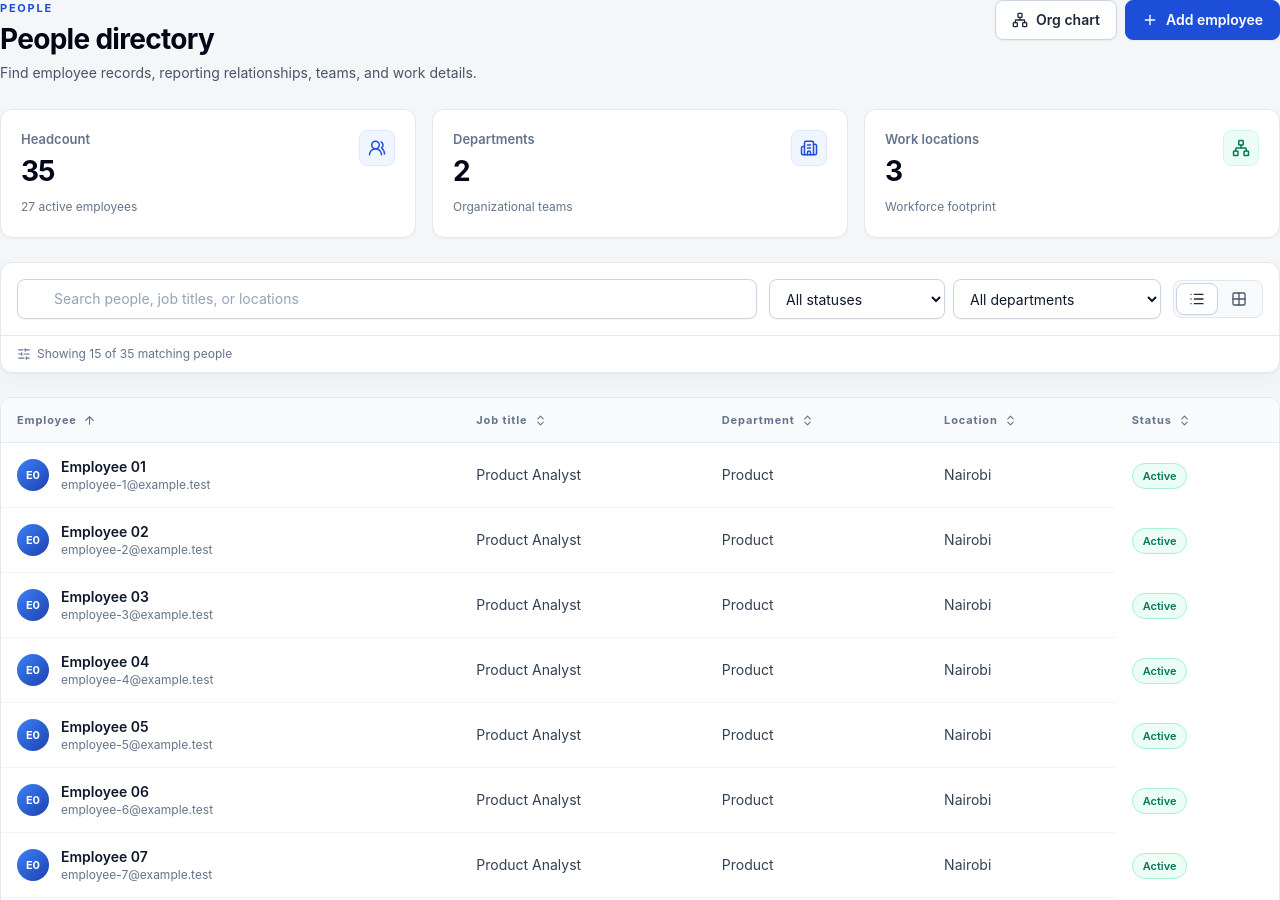
Test: keeps employee creation effective-date errors inside the create workflow
Expected: the text "Showing 15 of 35 matching people" is shown, [17,346,232,362]
Click the button "Add employee": (1202, 20) [1125,0,1279,40]
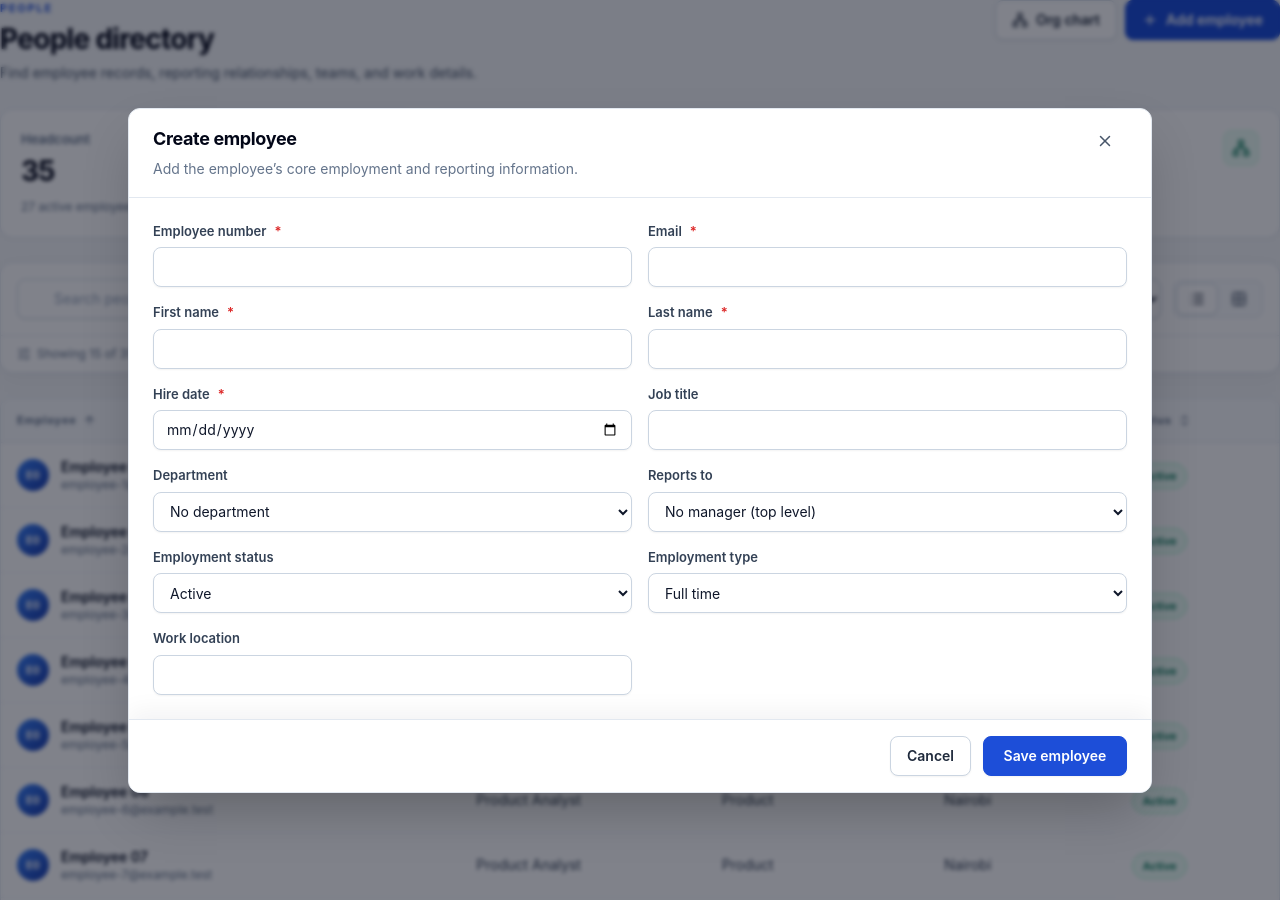
In the field labelled "Employee number": (392, 267) [153,247,632,287], type "EMP-901"
In the field labelled "Email": (888, 267) [648,247,1127,287], type "validation@example.test"
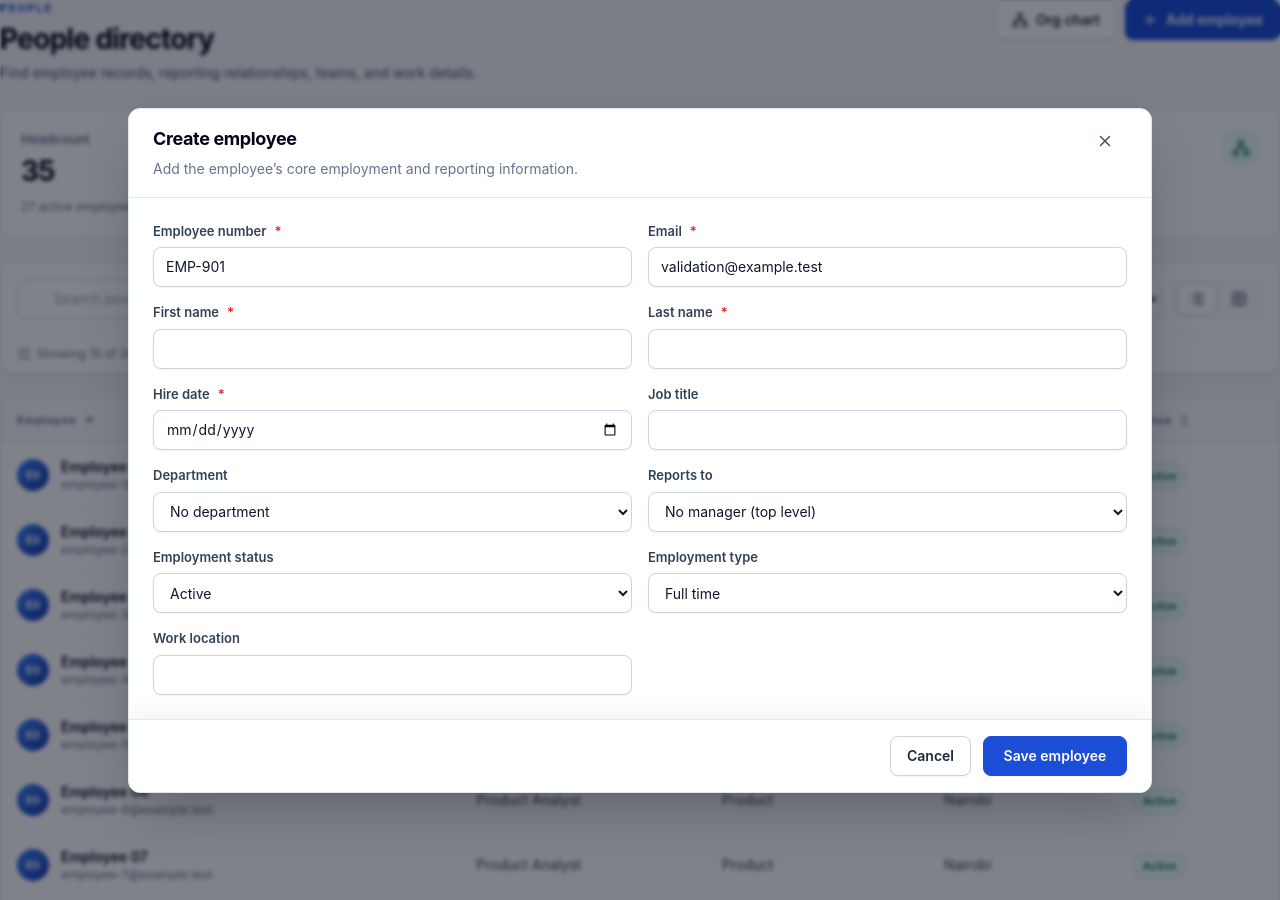
In the field labelled "First name": (392, 348) [153,328,632,368], type "Validation"
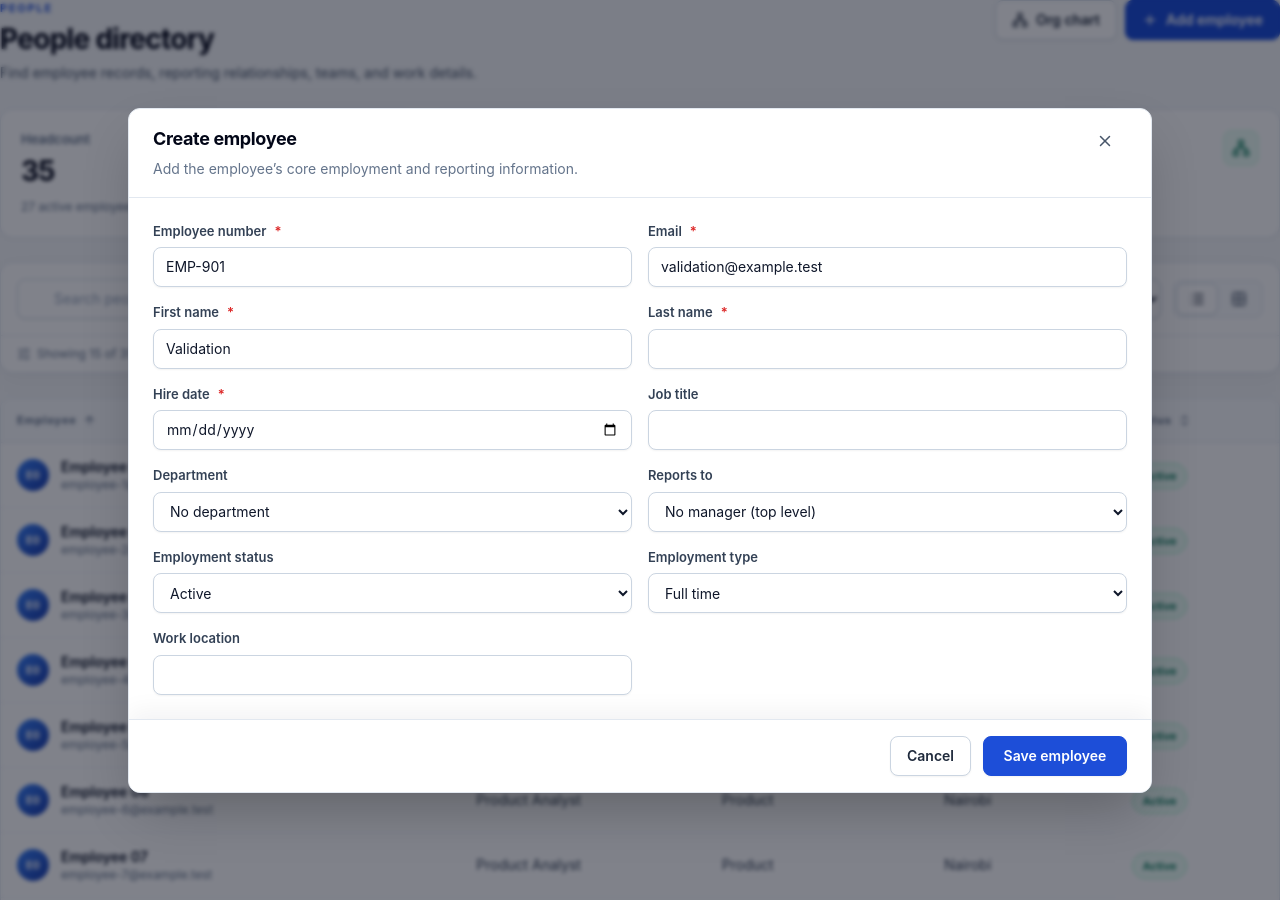
In the field labelled "Last name": (888, 348) [648,328,1127,368], type "Test"
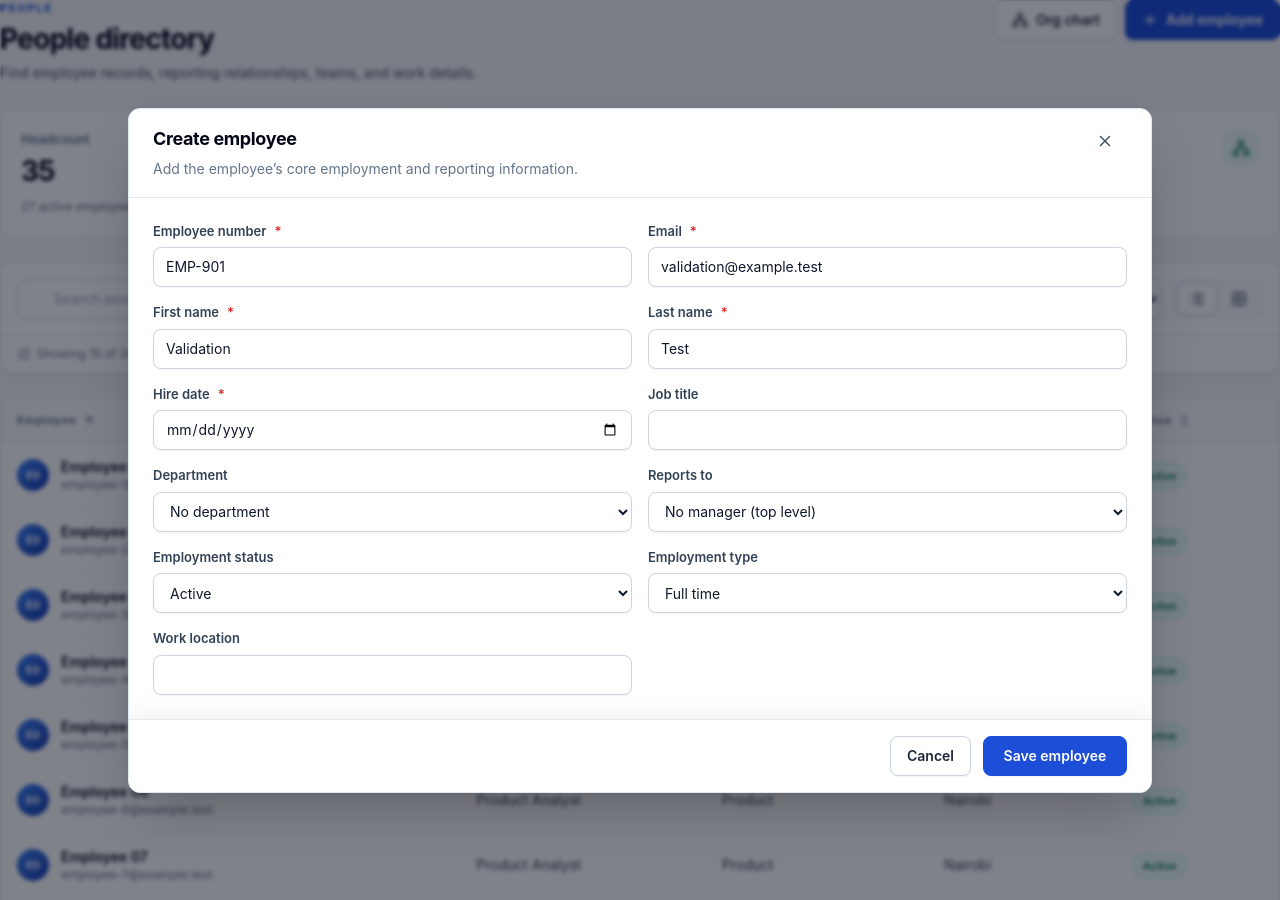
In the date field labelled "Hire date": (392, 430) [153,410,632,450], type "2026-08-01"
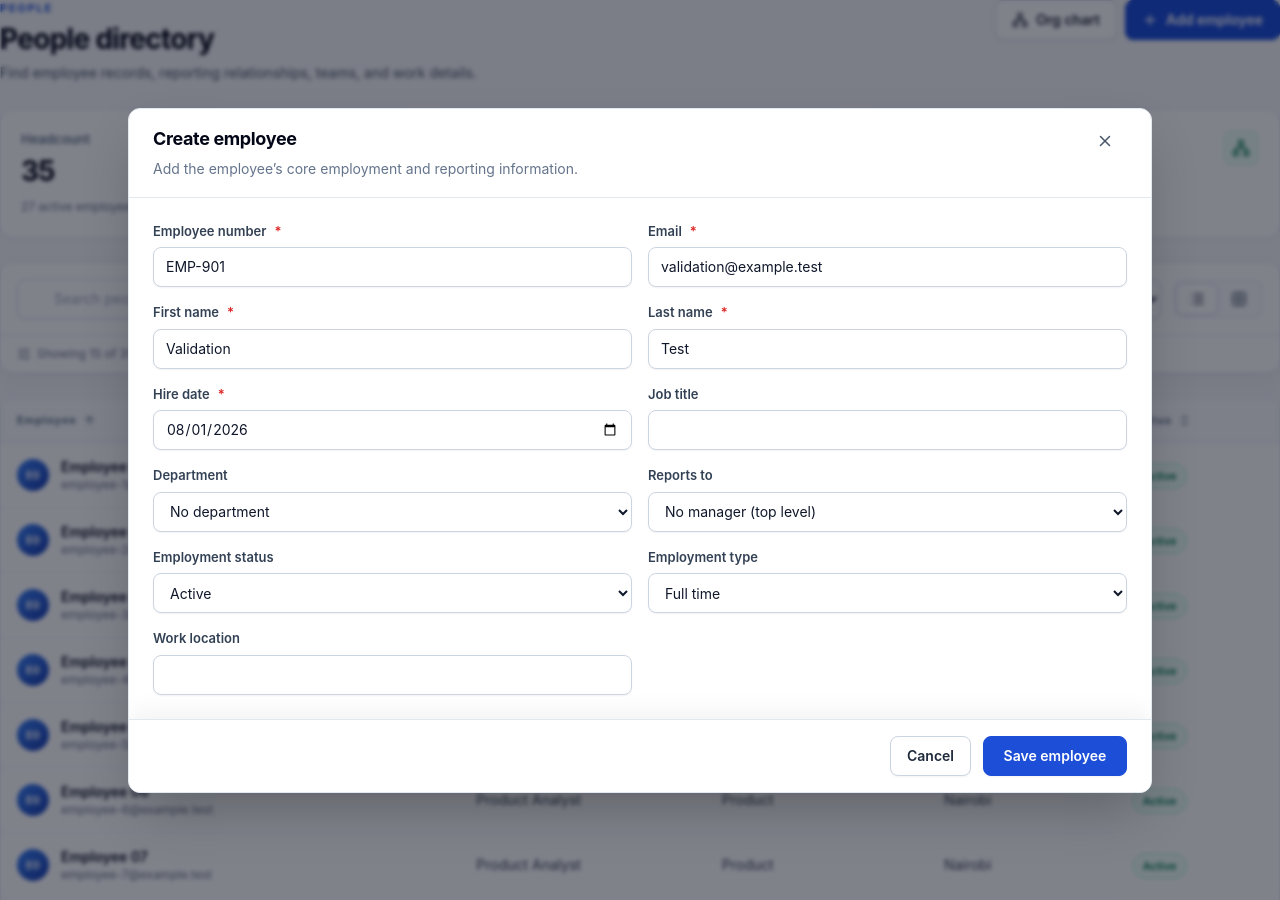
Click the button "Save employee": (1055, 756) [983,736,1127,776]
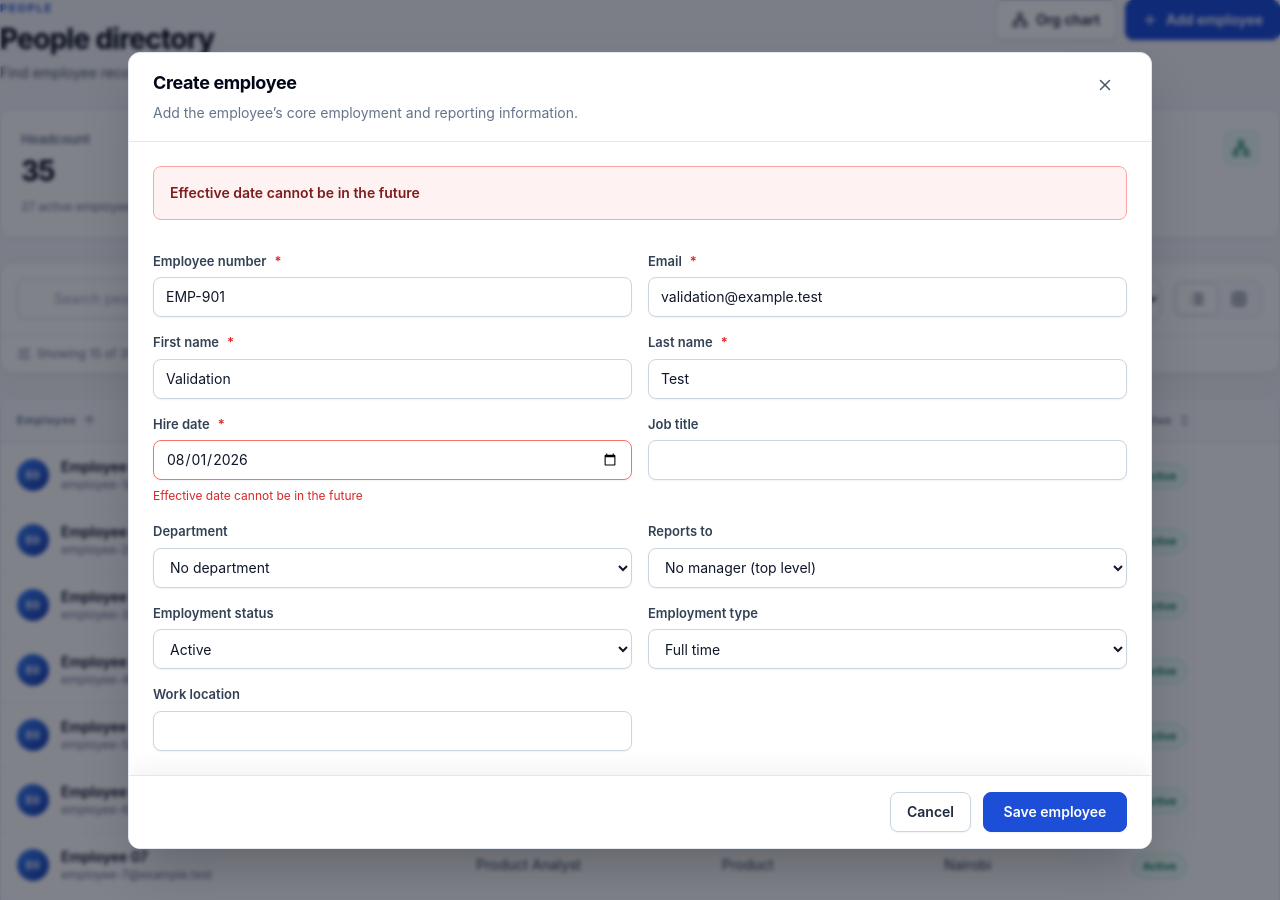
Expected: the message reads "Effective date cannot be in the future", [170,184,420,200]
Expected: the number of messages is 1, [153,166,1127,220]
